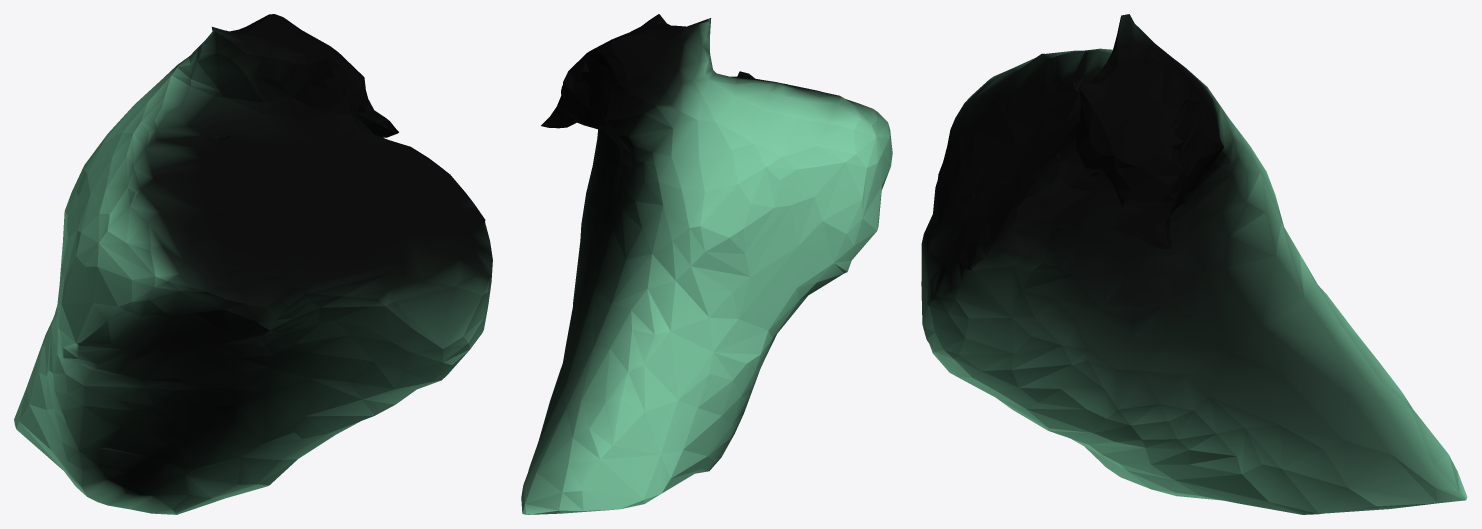
Rendered from Geometry11_lao.dae.
3 views of the same model, side by side, from view 1: azimuth 30°, elevation 25°; view 2: azimuth 150°, elevation 25°; view 3: azimuth 270°, elevation 25° (orthographic). The views are drawn at different scales.
Visible parts, largest first — view 1: node; view 2: node; view 3: node.
Part boxes in pixels (x1,y1,x2,y2): node: [14, 14, 492, 514]; node: [521, 14, 892, 514]; node: [921, 14, 1467, 514].
Bounding box in the file's own units: 19.86 × 26.2 × 27.51.
